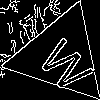W: (35, 30, 100, 97)
